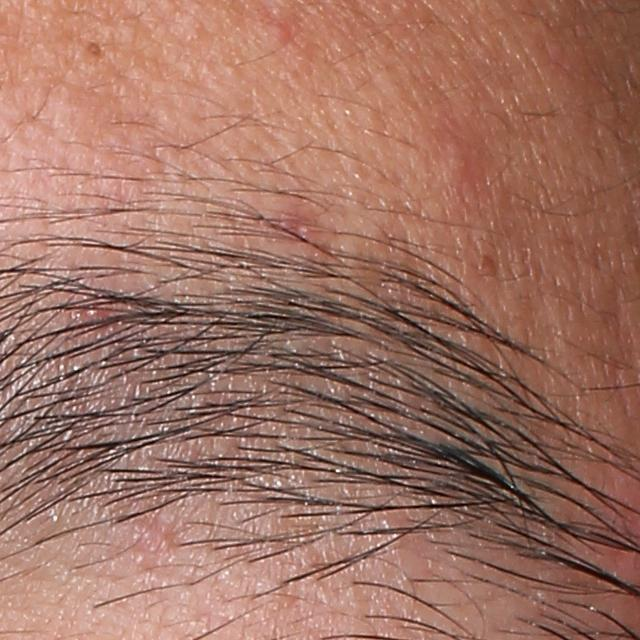nevus: (84, 38, 103, 57)
papule: (433, 136, 476, 185), (268, 24, 296, 47)
